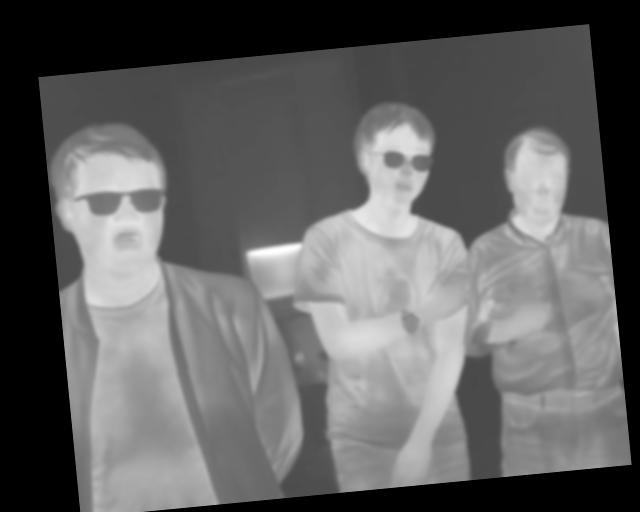face: (46, 116, 177, 283), (350, 95, 444, 207), (499, 123, 577, 229)
